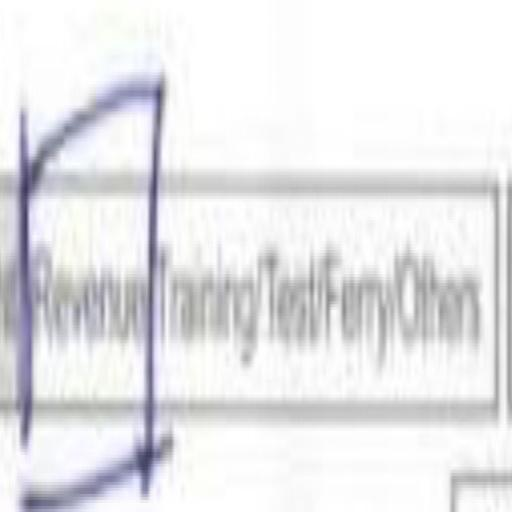check: (9, 56, 157, 512)
